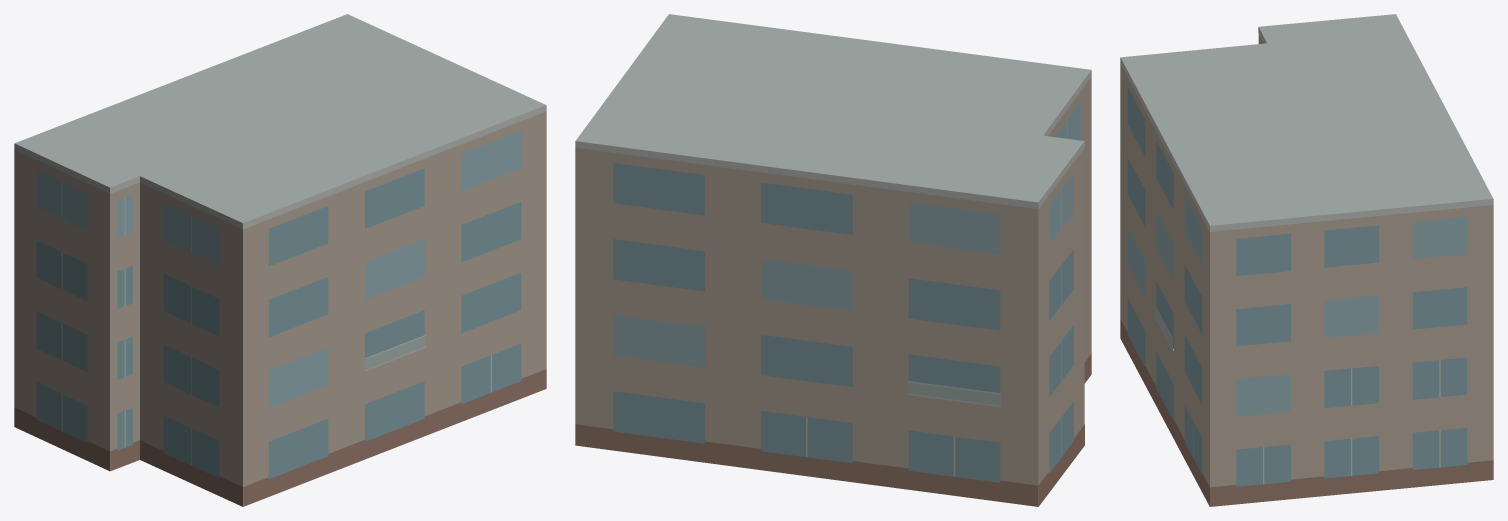
File: survey-upis-33028202.glb
The picture shows the model from 3 angles, left to right: view 1: azimuth 30°, elevation 25°; view 2: azimuth 150°, elevation 25°; view 3: azimuth 270°, elevation 25°; orthographic projection. The views are drawn at different scales.
Parts seen in each view (by area): view 1: survey-upis-33028202.tmp; view 2: survey-upis-33028202.tmp; view 3: survey-upis-33028202.tmp.
Boxes of the visible parts, x1,y1,x2,y2 form: survey-upis-33028202.tmp: [14, 14, 546, 506]; survey-upis-33028202.tmp: [575, 14, 1091, 506]; survey-upis-33028202.tmp: [1120, 14, 1493, 506].
Size of the model in its own units: 18.12 by 11.2 by 13.49.
